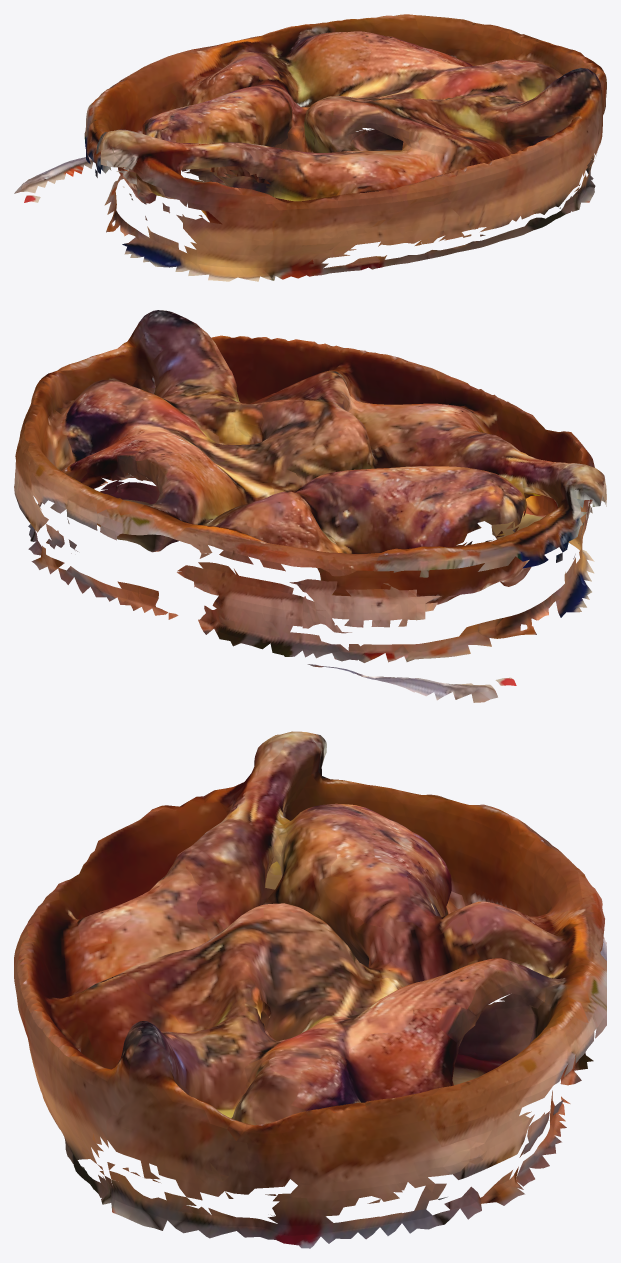
File: cordero.glb
The picture shows the model from 3 angles, top to bottom: view 1: azimuth 30°, elevation 25°; view 2: azimuth 150°, elevation 25°; view 3: azimuth 270°, elevation 25°; orthographic projection. The views are drawn at different scales.
Parts seen in each view (by area): view 1: Object_2; view 2: Object_2; view 3: Object_2.
Boxes of the visible parts, x1=… form: Object_2: x1=14, y1=14, x2=606, y2=281; Object_2: x1=14, y1=310, x2=606, y2=702; Object_2: x1=14, y1=731, x2=606, y2=1248.
Size of the model in its own units: 0.35 by 0.0858 by 0.2468.
1 material, 1 textured.
